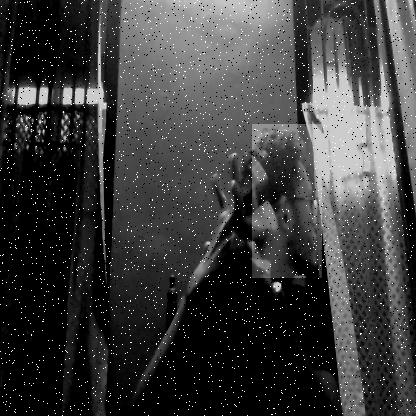Distracted: (252, 124, 322, 278)
